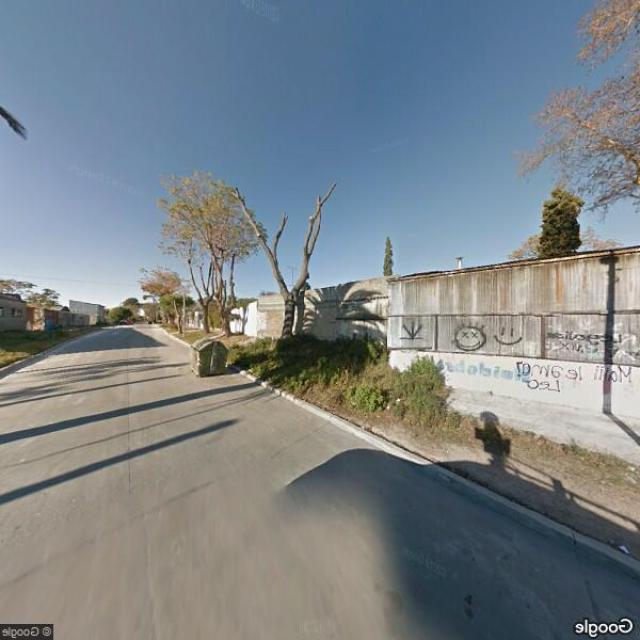garbage container: (182, 334, 232, 386)
